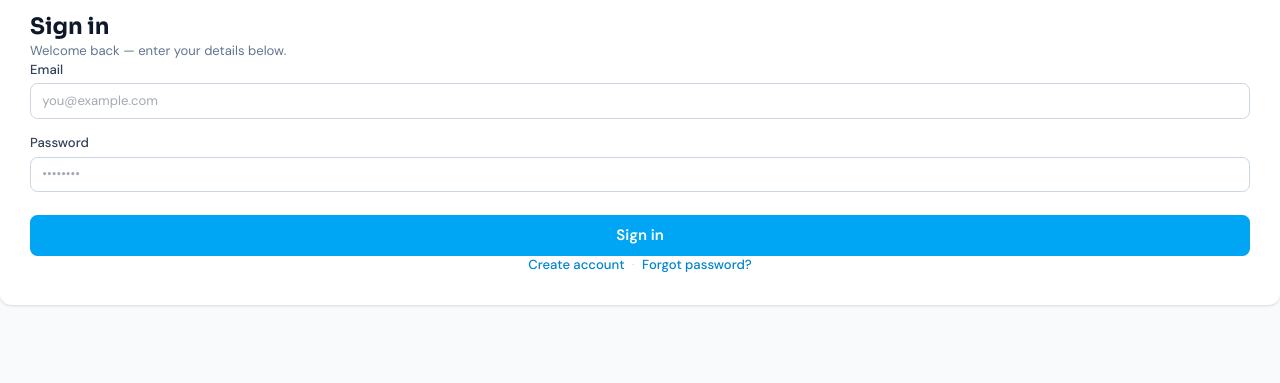
it: LoginForm › shows validation error when password is too short
Type "a@b.com" into the field labelled "Email" at (640, 101), box [30,83,1250,119]
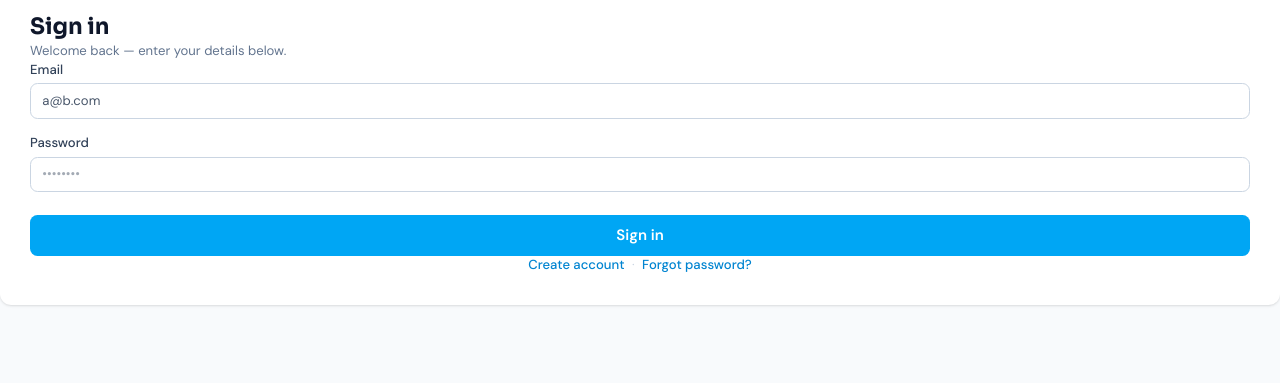
Type "short" into the password field labelled "Password" at (640, 174), box [30,156,1250,192]
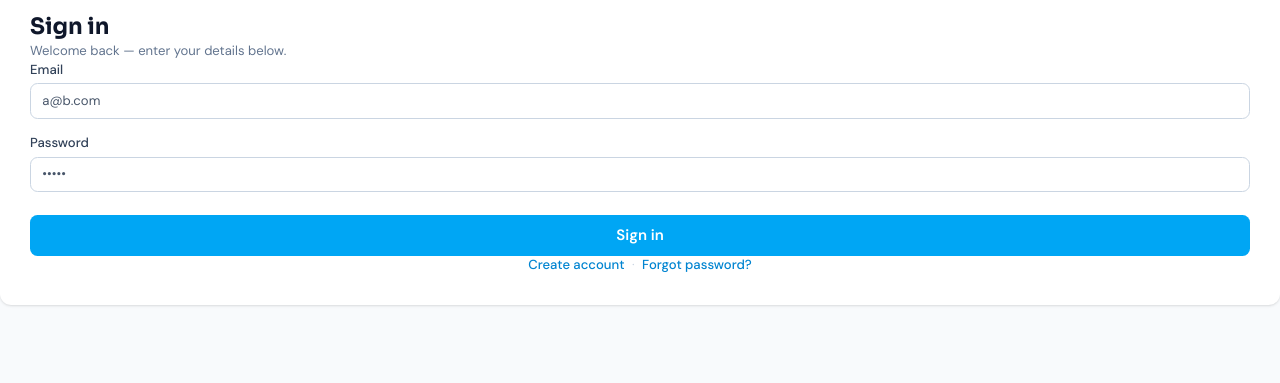
Click the button "Sign in" at (640, 235), box [30,215,1250,256]
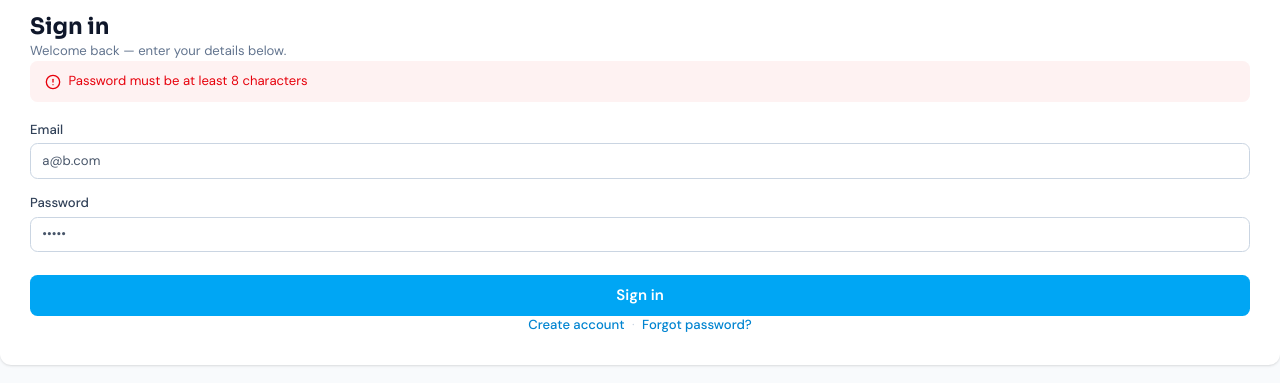
Expected: the message shows "8 characters", [68,72,308,89]
